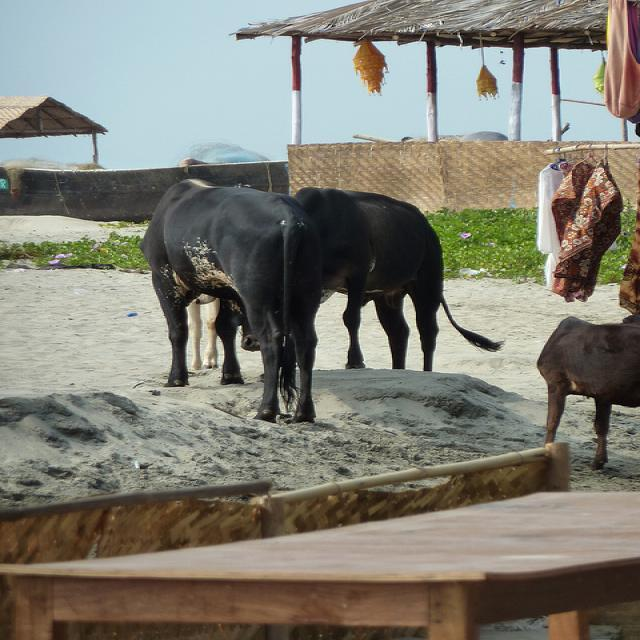cow: (235, 186, 504, 373), (140, 174, 320, 426), (533, 313, 639, 470)
